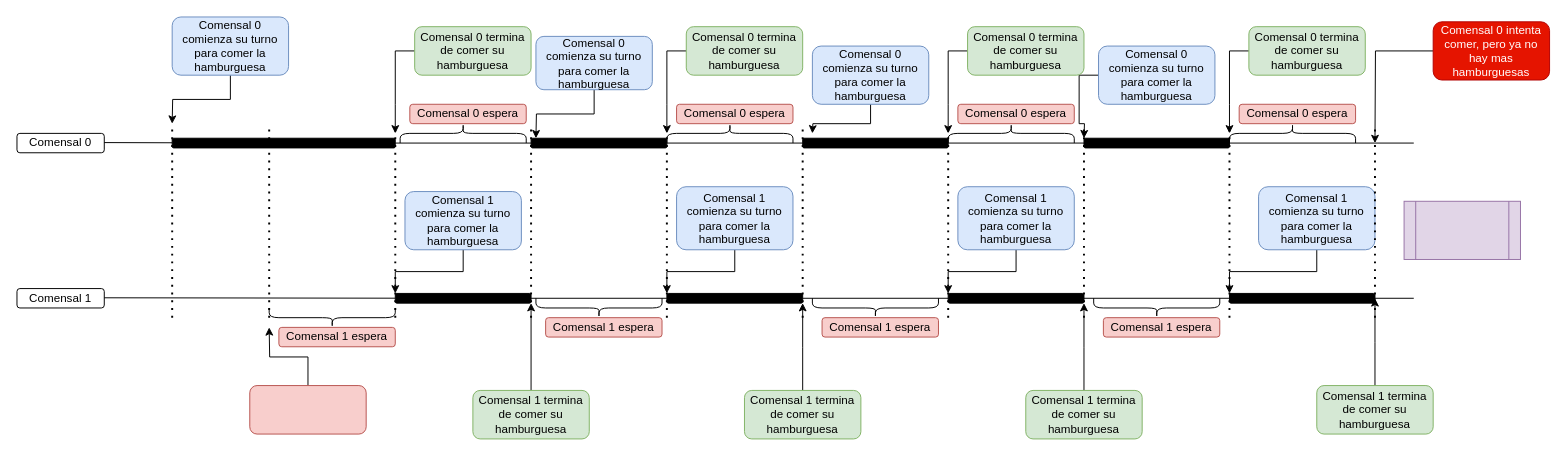
The diagram is 1567 pixels wide and 456 high, and some of its shapes have lost their labels. The shapes that lost their labels are listed below. From the top down, each one's centre as x and y in pixels, then its label:
(1461,229): FIN
(307,409): Comensal 1 intenta comer, pero debe esperar tu turno
